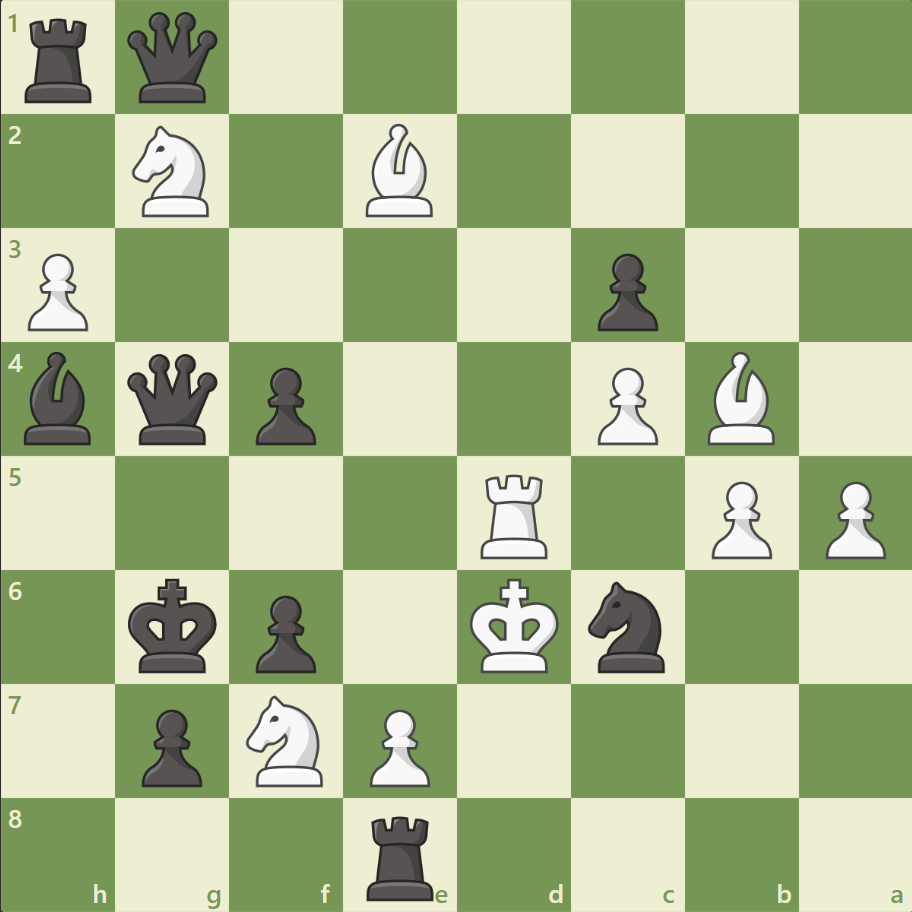B: (698, 347, 782, 449), (358, 120, 442, 222)
K: (465, 571, 565, 679)
N: (124, 121, 222, 223), (238, 688, 335, 791)
P: (701, 473, 776, 564), (20, 246, 95, 337), (361, 700, 435, 791), (815, 473, 889, 564), (588, 359, 662, 450)
R: (473, 466, 556, 563)
b: (17, 347, 101, 449)
k: (124, 571, 224, 679)
n: (579, 575, 676, 677)
p: (133, 700, 208, 791), (247, 586, 322, 677), (247, 359, 322, 450), (588, 246, 662, 337)
q: (124, 349, 223, 449), (124, 9, 223, 108)
r: (19, 12, 102, 109), (360, 806, 442, 904)
